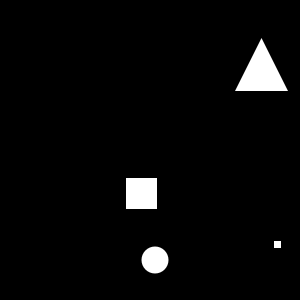circle: (126, 178, 157, 209), (274, 241, 281, 248)
rectangle: (142, 246, 169, 274)
triangle: (235, 38, 288, 91)
